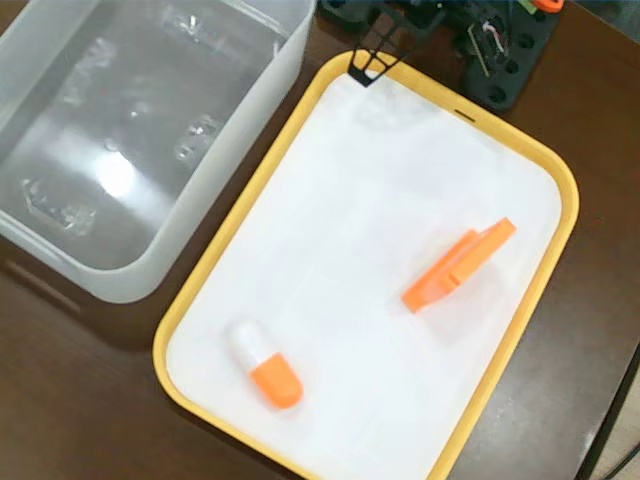pill: (223, 316, 308, 412)
